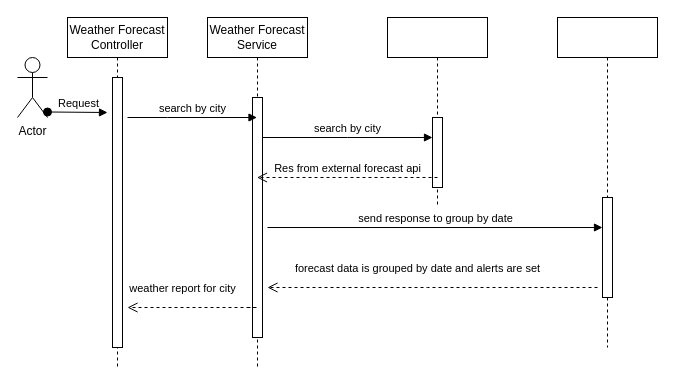
This 675x385 diagram has some shape labels left out. Here are the shapes that lost their labels. From the top down, the box of each, then its label:
(386, 16, 488, 208): Web Client for Rest call
(556, 16, 658, 348): Weather Forecast Response Builder
